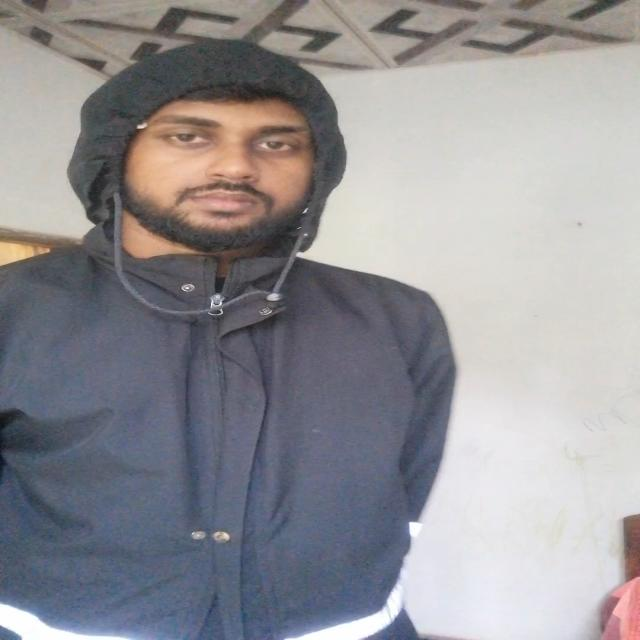Jacket_Wearer: (12, 32, 456, 640)
